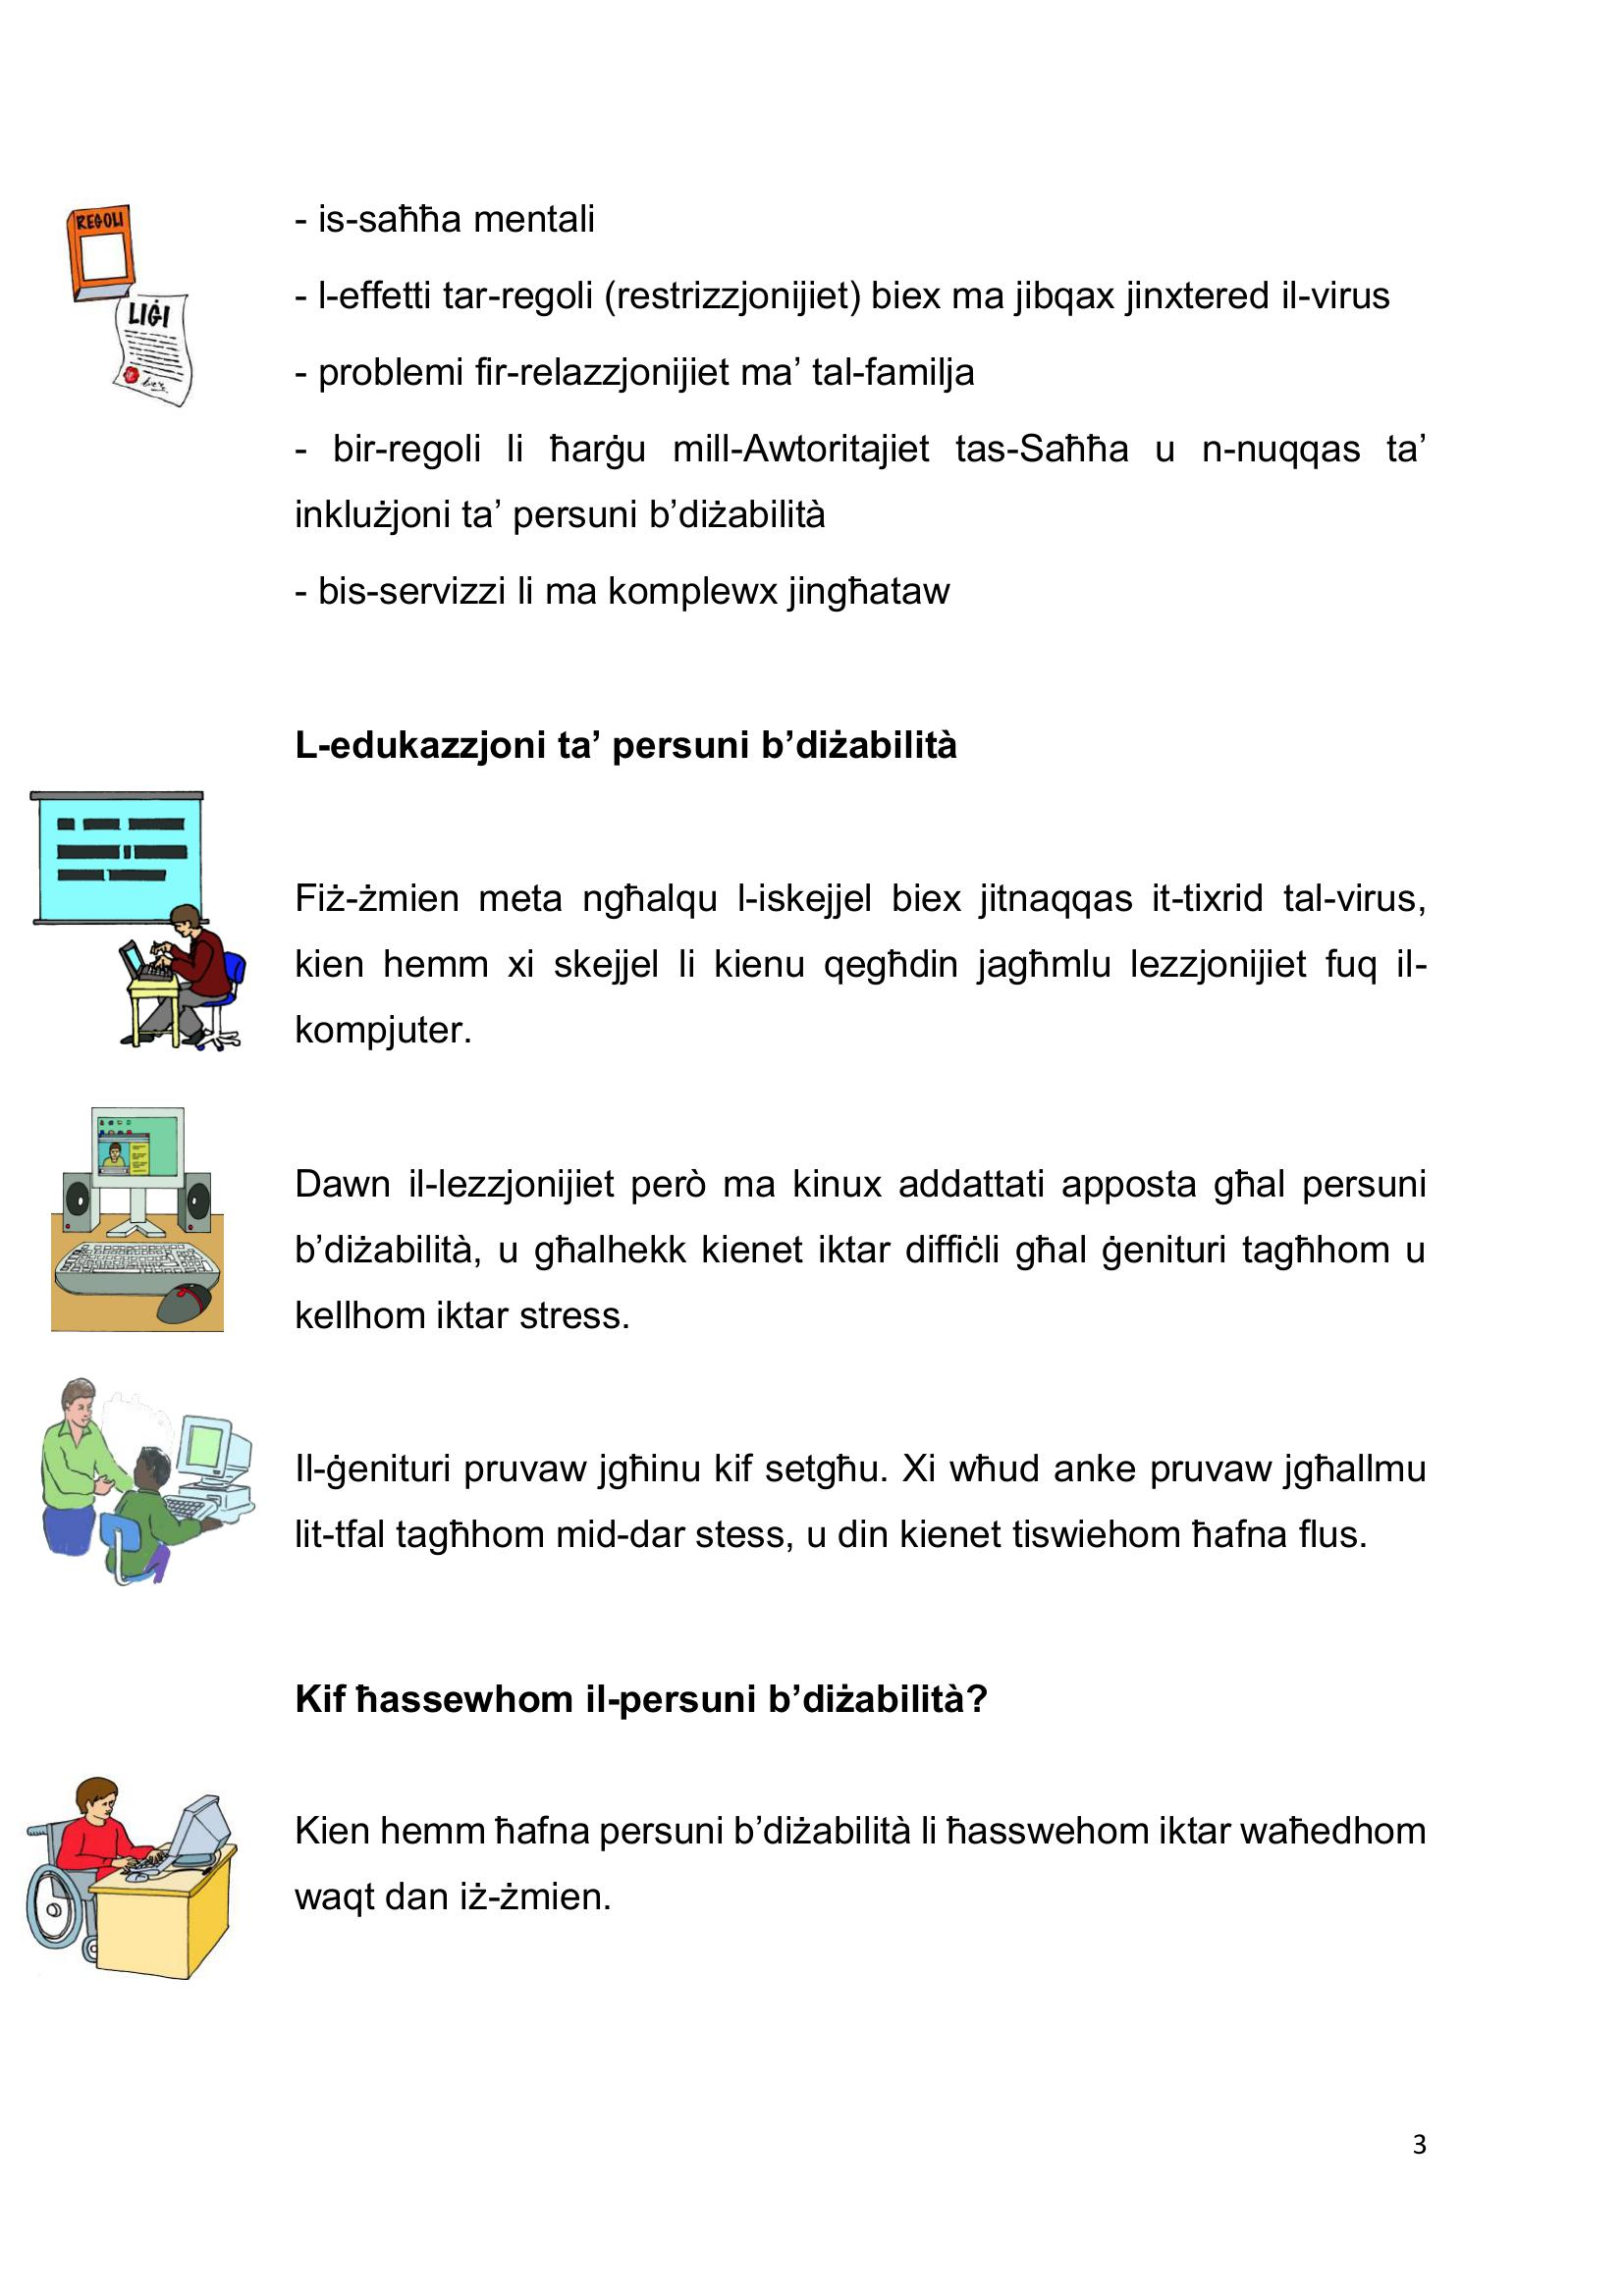text: (269, 169, 1501, 1953)
